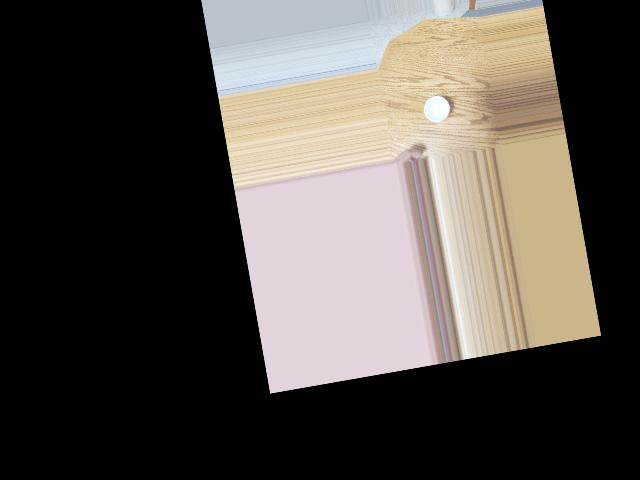cotage: (419, 93, 451, 126)
